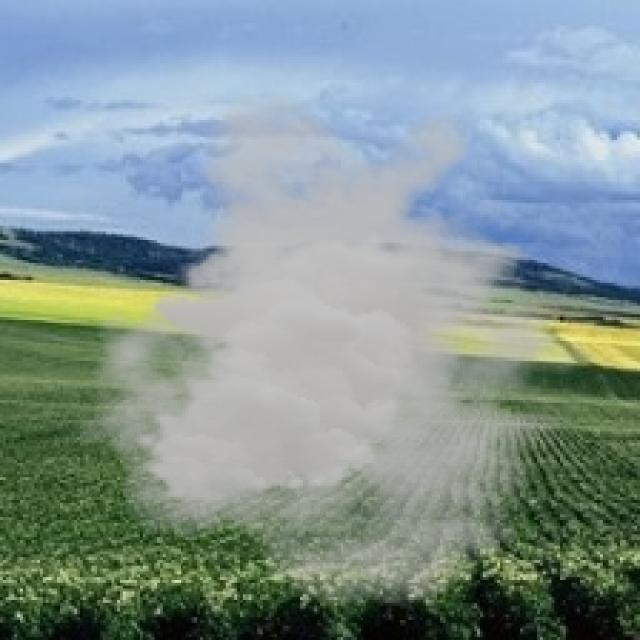smoke: (74, 89, 620, 608)
